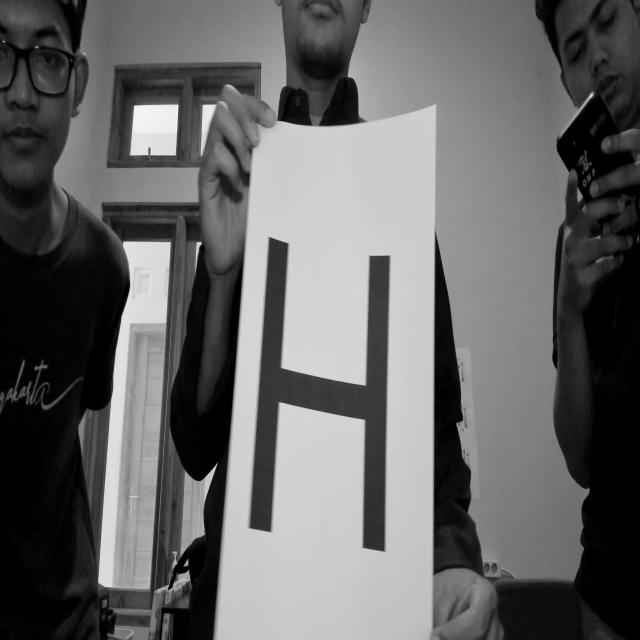h: (242, 230, 401, 578)
